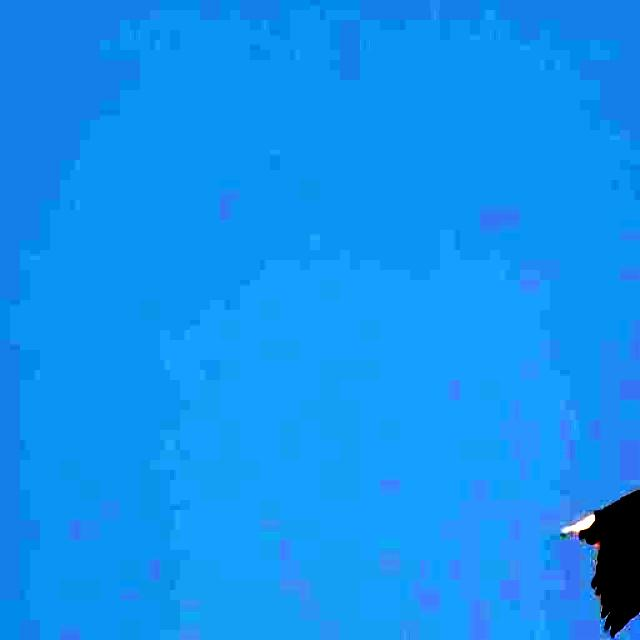airplane: (570, 472, 640, 635)
